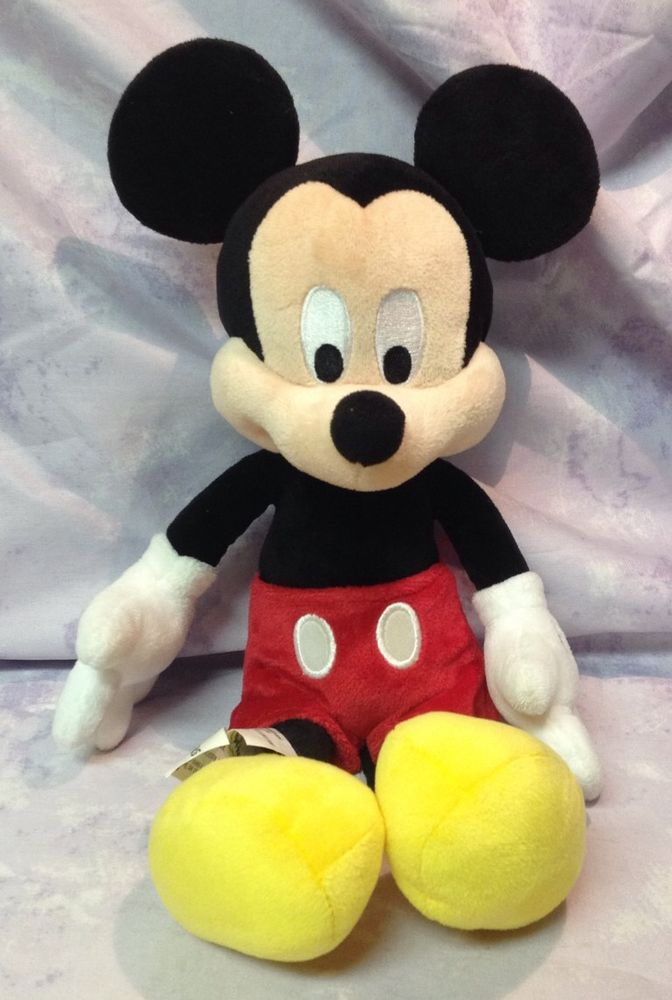Mickey: (99, 32, 608, 494)
